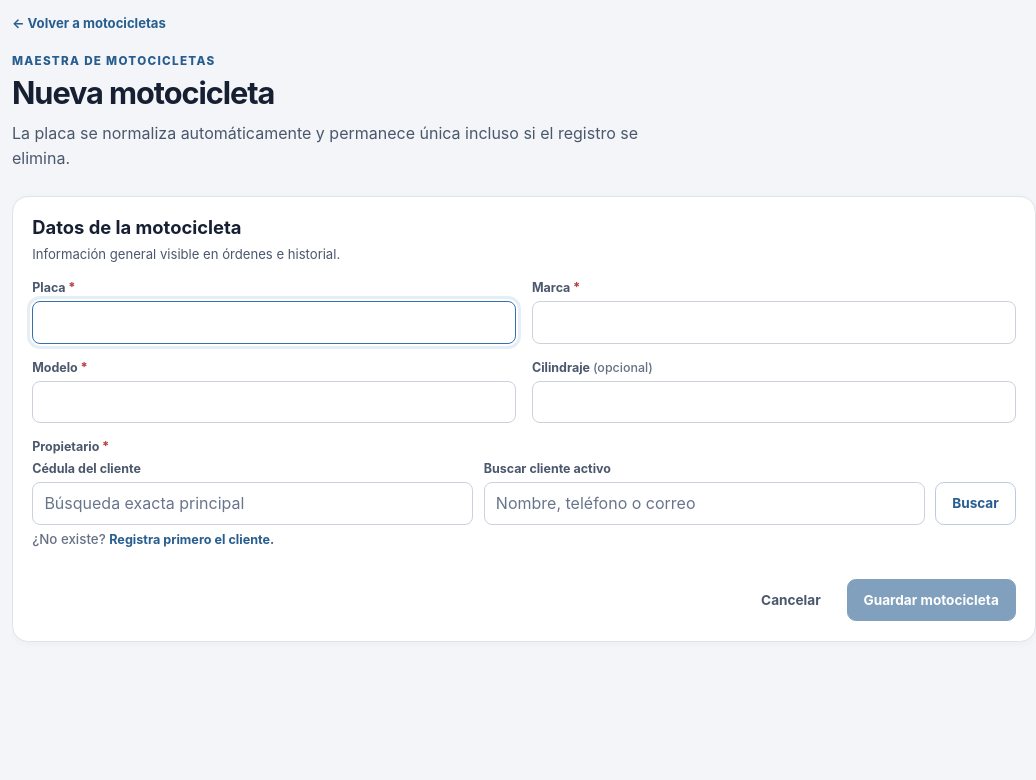
Scenario: Motorcycle master screens › searches for an owner with Enter without nesting HTML forms
Step 1. Type "Ana" into the field labelled "Buscar cliente activo" → (704, 504), box [484, 482, 925, 525]
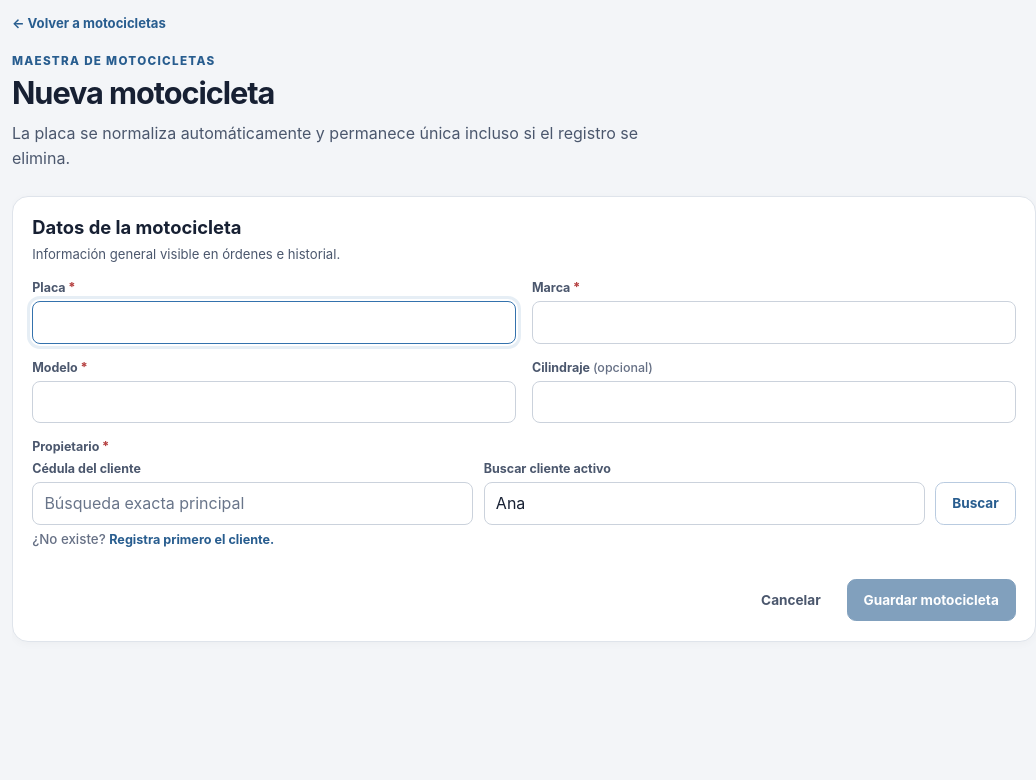
Step 2. Press Enter in the field labelled "Buscar cliente activo", box [484, 482, 925, 525]
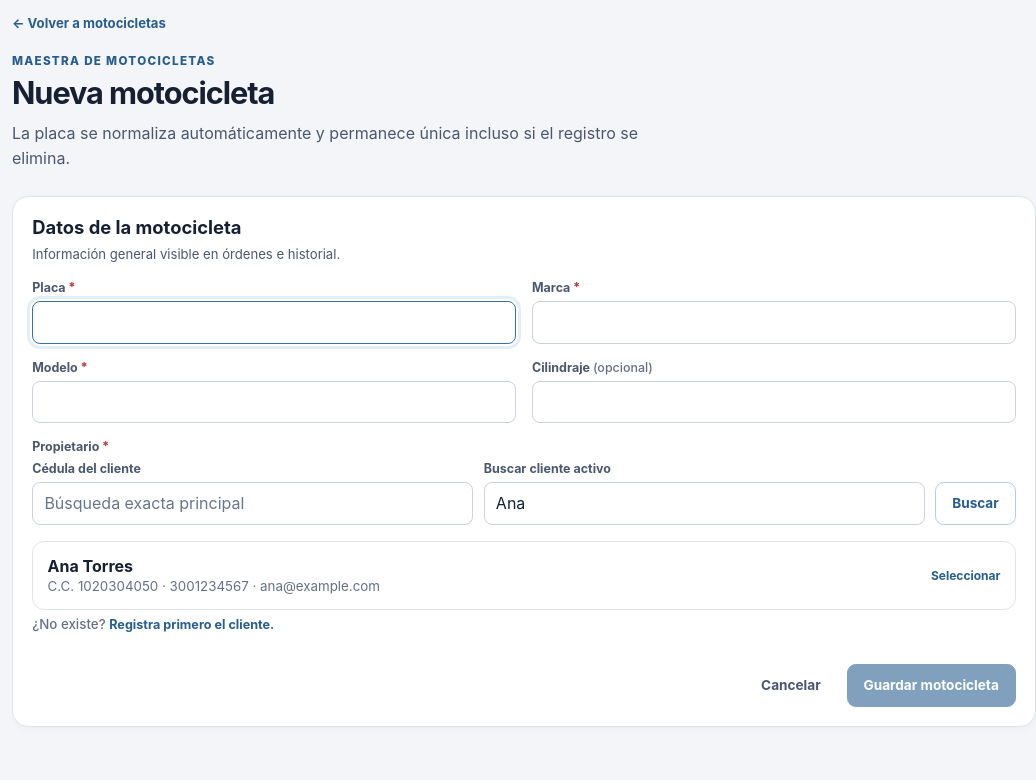
Expected: the button "Ana Torres" is shown, [32, 541, 1016, 610]
